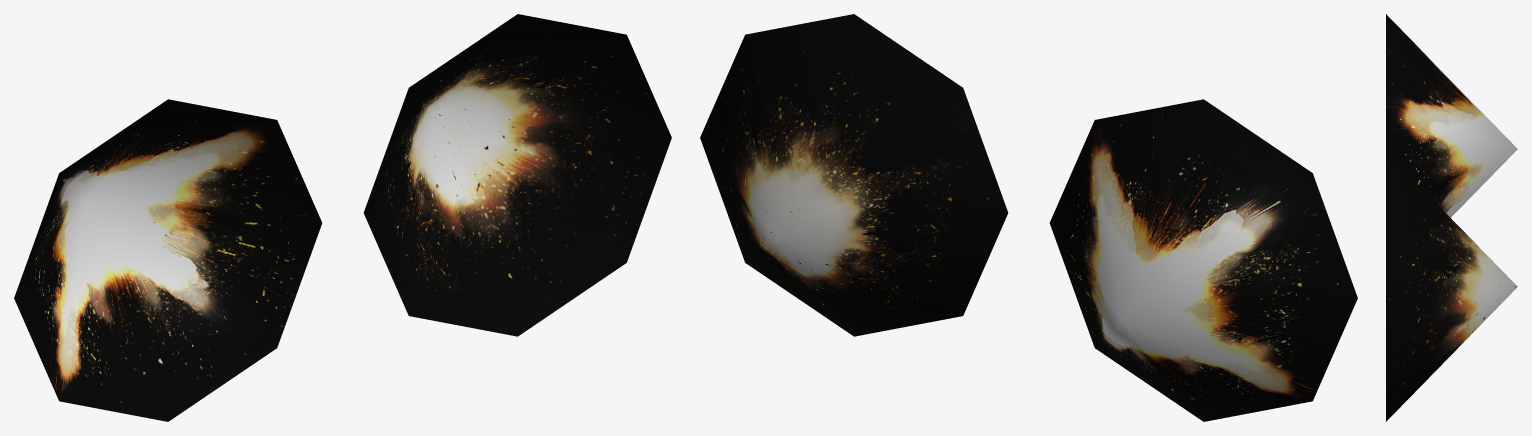
File: muzzles.fbx
3 renders of one model, left to right at view 1: azimuth 30°, elevation 25°; view 2: azimuth 150°, elevation 25°; view 3: azimuth 270°, elevation 25°, orthographic. The views are drawn at different scales.
Visible parts, largest first — view 1: muzzlemesh, muzzlemesh_1; view 2: muzzlemesh, muzzlemesh_1; view 3: muzzlemesh, muzzlemesh_1.
Boxes of the visible parts, x1=… form: muzzlemesh: x1=363, y1=14, x2=671, y2=336; muzzlemesh_1: x1=14, y1=99, x2=322, y2=421; muzzlemesh: x1=700, y1=14, x2=1008, y2=336; muzzlemesh_1: x1=1049, y1=99, x2=1357, y2=421; muzzlemesh: x1=1386, y1=152, x2=1517, y2=421; muzzlemesh_1: x1=1386, y1=14, x2=1517, y2=217.
Size of the model in its own units: 427 by 200 by 91.76.
